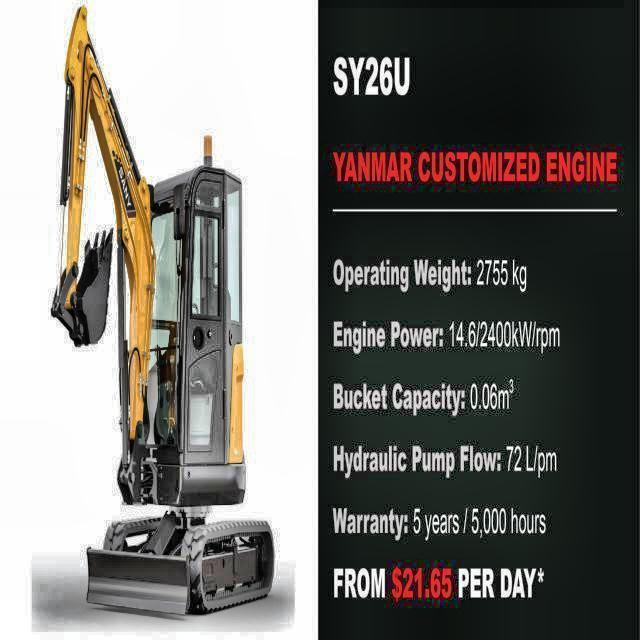excavator: (48, 4, 278, 618)
